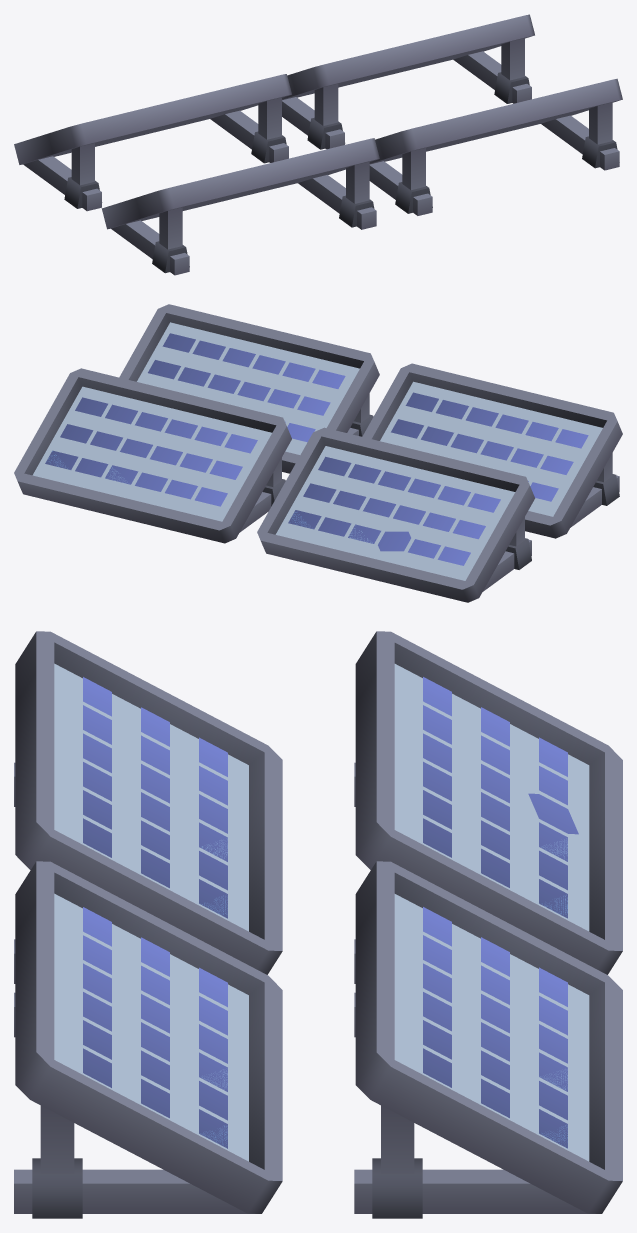
File: solar.glb
The picture shows the model from 3 angles, top to bottom: view 1: azimuth 30°, elevation 25°; view 2: azimuth 150°, elevation 25°; view 3: azimuth 270°, elevation 25°; orthographic projection. The views are drawn at different scales.
Parts seen in each view (by area): view 1: solar-panel-landscape-group; view 2: solar-panel-landscape-group; view 3: solar-panel-landscape-group.
Part boxes in pixels (x1,y1,x2,y2): solar-panel-landscape-group: (14, 14, 622, 275); solar-panel-landscape-group: (14, 304, 622, 602); solar-panel-landscape-group: (14, 631, 622, 1218).
Size of the model in its own units: 1.51 by 0.2623 by 0.895.
1 material, 1 textured.
